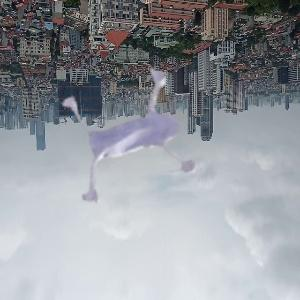drone: (24, 32, 248, 256)
